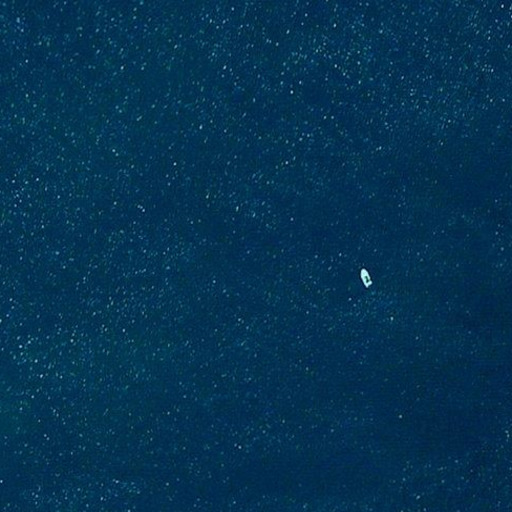ship: (356, 265, 374, 290)
